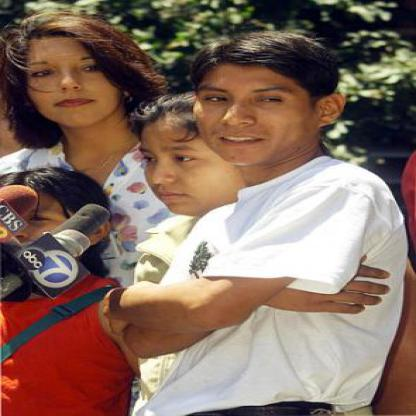face: (191, 40, 321, 167), (126, 102, 251, 218), (19, 16, 121, 129)
